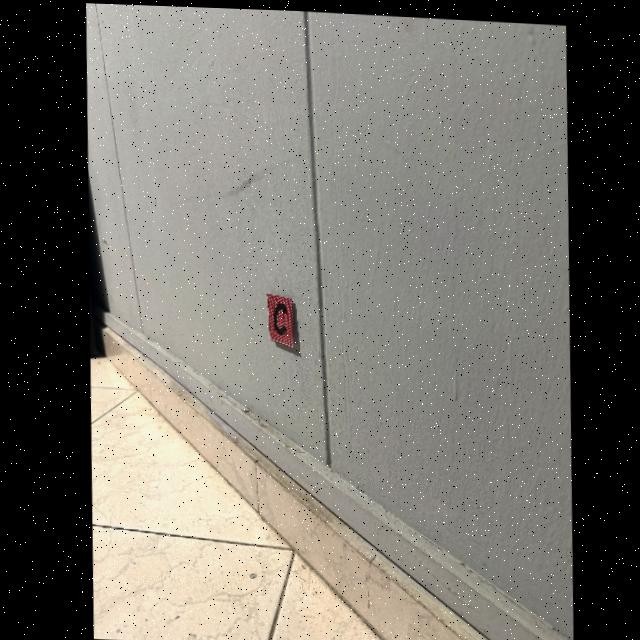C: (272, 300, 283, 331)
